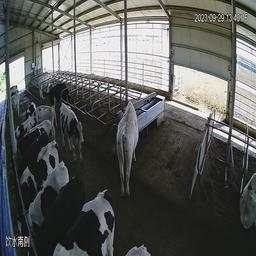cow: (24, 167, 89, 247), (47, 193, 120, 256), (112, 89, 147, 192), (66, 96, 95, 178), (233, 145, 255, 231), (12, 122, 60, 156), (10, 96, 37, 136), (5, 75, 21, 101)
